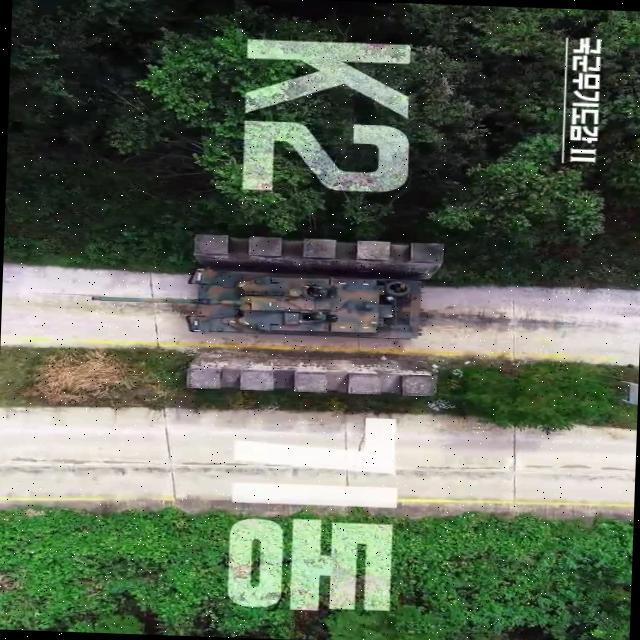korea tank: (88, 263, 428, 343)
